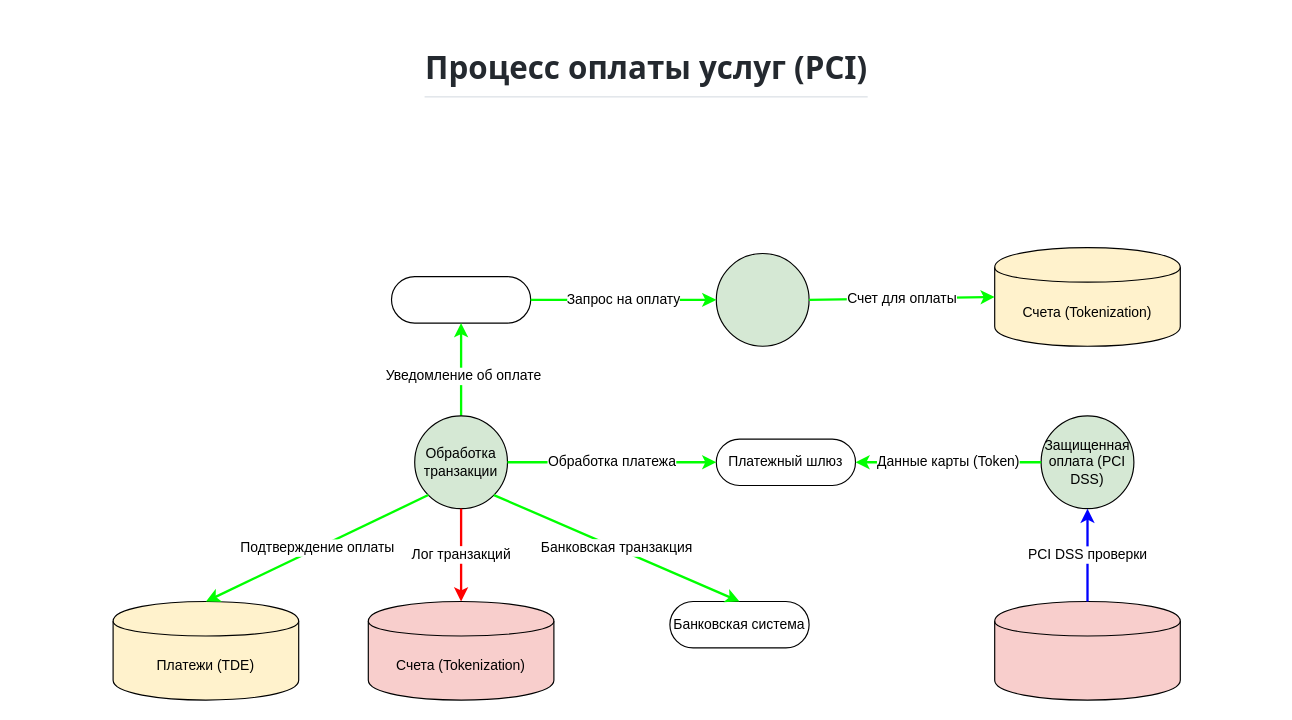
This 1292x720 diagram has some shape labels left out. The box of each missing label's shape, as (x1, y1, x2, y2) in pixels:
PCI DSS Мониторинг: (994, 600, 1180, 700)
Пациент: (390, 276, 531, 323)
Формирование счета: (715, 252, 809, 346)
